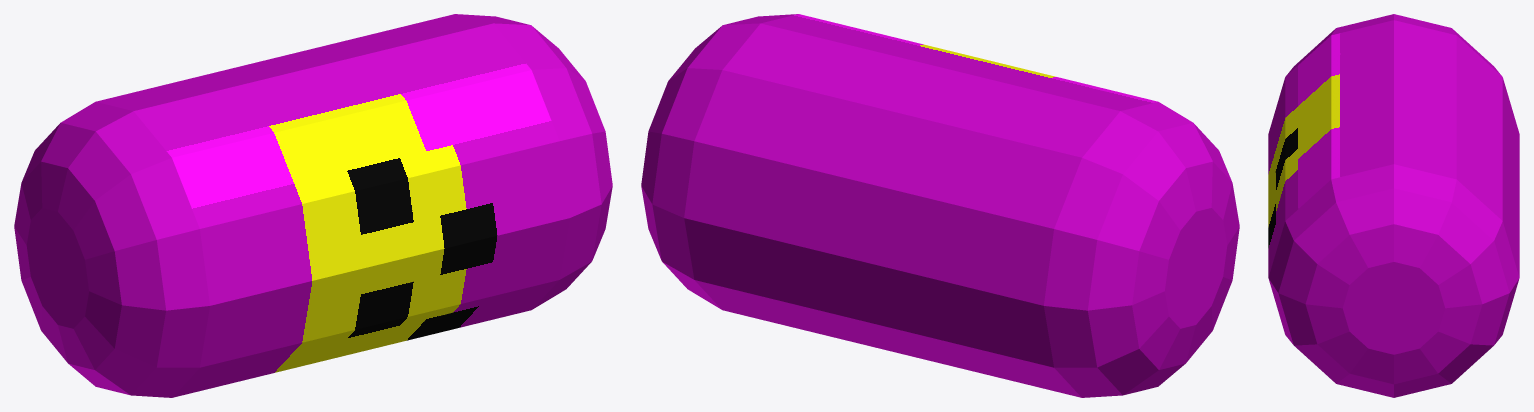
File: powerup_b.glb
The picture shows the model from 3 angles, left to right: view 1: azimuth 30°, elevation 25°; view 2: azimuth 150°, elevation 25°; view 3: azimuth 270°, elevation 25°; orthographic projection. The views are drawn at different scales.
Parts seen in each view (by area): view 1: Cylinder; view 2: Cylinder; view 3: Cylinder.
Boxes of the visible parts, x1=… form: Cylinder: x1=14, y1=14, x2=612, y2=397; Cylinder: x1=641, y1=14, x2=1239, y2=397; Cylinder: x1=1268, y1=14, x2=1519, y2=397.
Bounding box in the file's own units: 0.162 × 0.084 × 0.084.
1 material, 1 textured.
